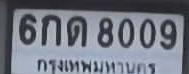0: (139, 17, 155, 48), (117, 16, 133, 46)
6: (18, 13, 35, 44)
8: (97, 16, 112, 46)
9: (159, 18, 176, 48)
A01: (41, 14, 60, 45)
A20: (66, 15, 86, 46)
BKK: (35, 56, 159, 74)
